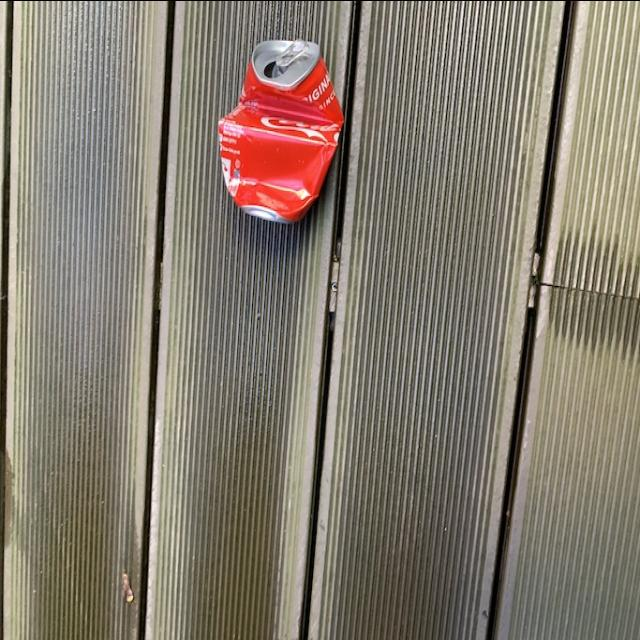litter: (220, 29, 357, 219)
